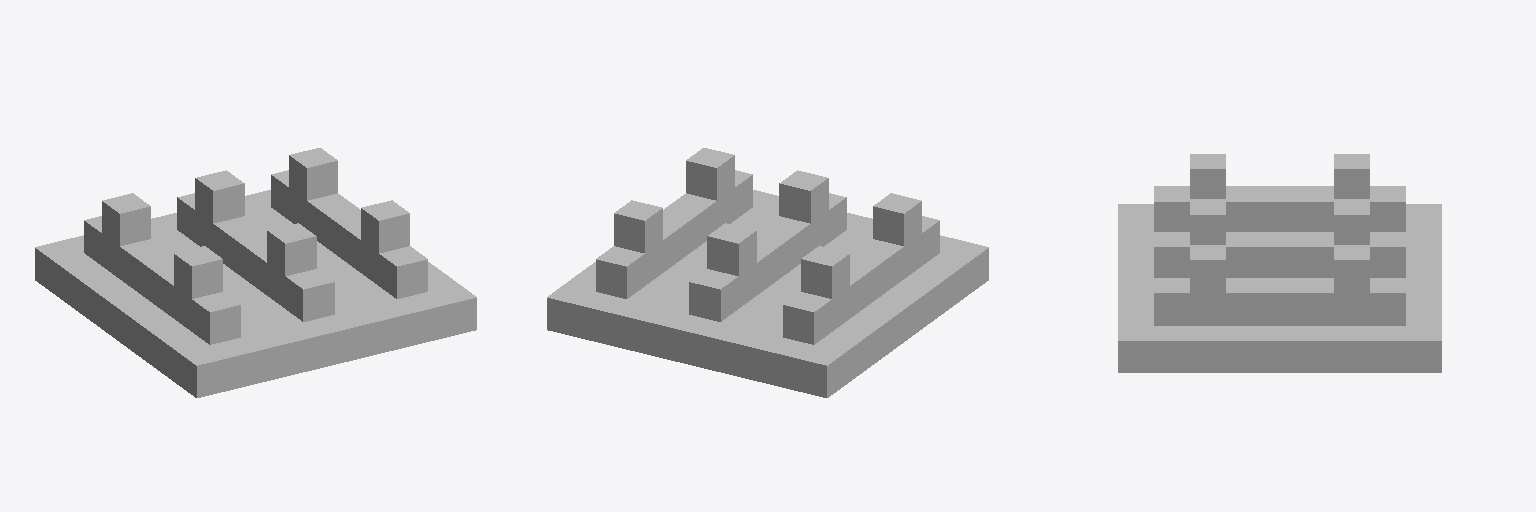
Rendered from Cabbage 1.obj.
3 views of the same model, side by side, from view 1: azimuth 30°, elevation 25°; view 2: azimuth 150°, elevation 25°; view 3: azimuth 270°, elevation 25° (orthographic).
Parts seen in each view (by area): view 1: object 1; view 2: object 1; view 3: object 1.
Part boxes in pixels (bbox=[...]): object 1: bbox=[35, 148, 476, 397]; object 1: bbox=[547, 148, 988, 397]; object 1: bbox=[1118, 154, 1441, 372].
Bounding box in the file's own units: 0.9 × 0.3 × 0.9.